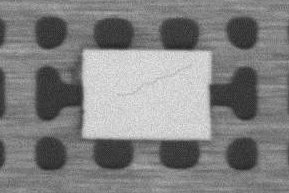DIE_CRACK: (115, 64, 193, 95)
